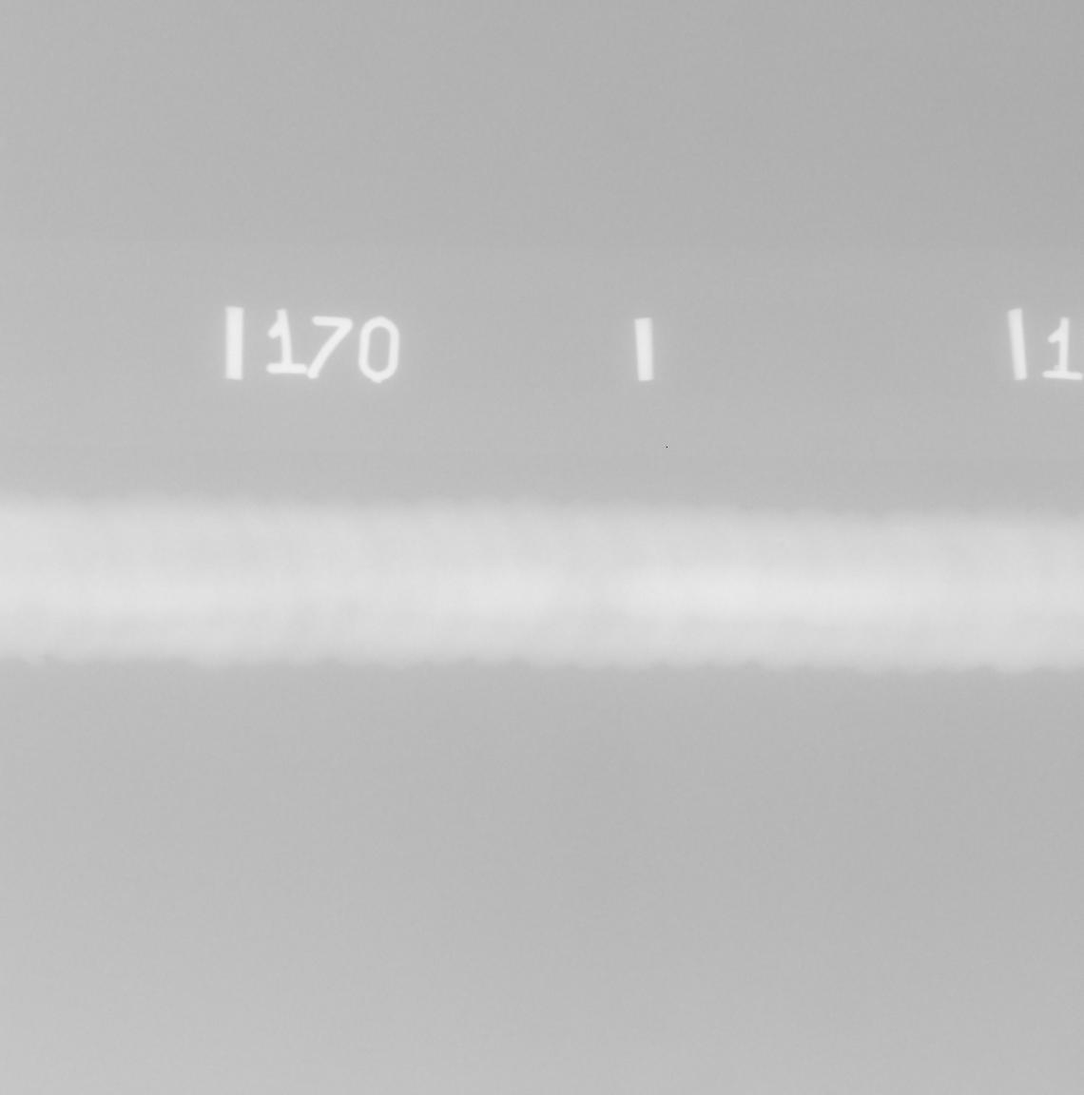Pore/Porosity: (778, 543, 785, 549)
